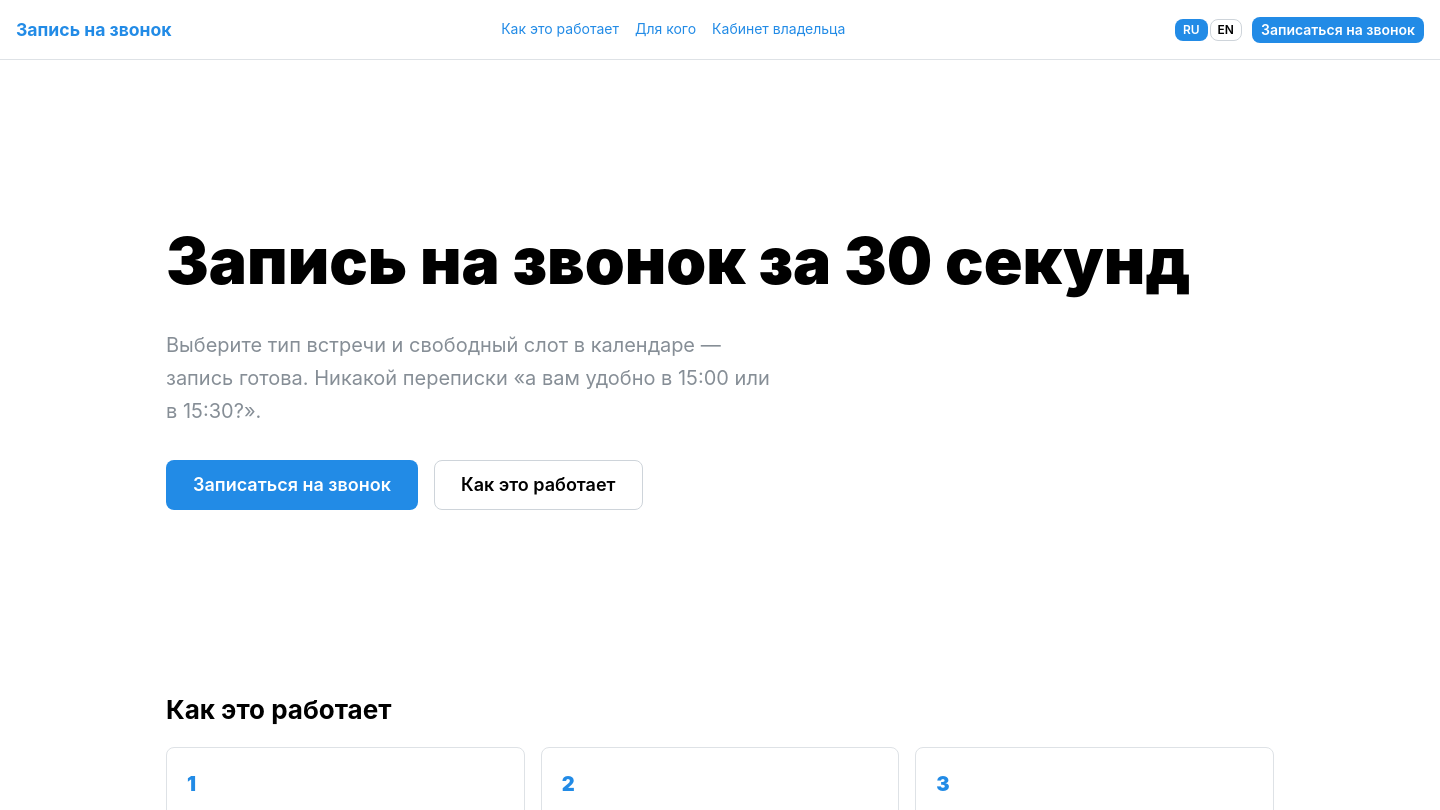
language switcher (spec § 6.1) › switches the whole page to English on click
Click the button "EN" at (1226,30), box [1210,18,1242,40]
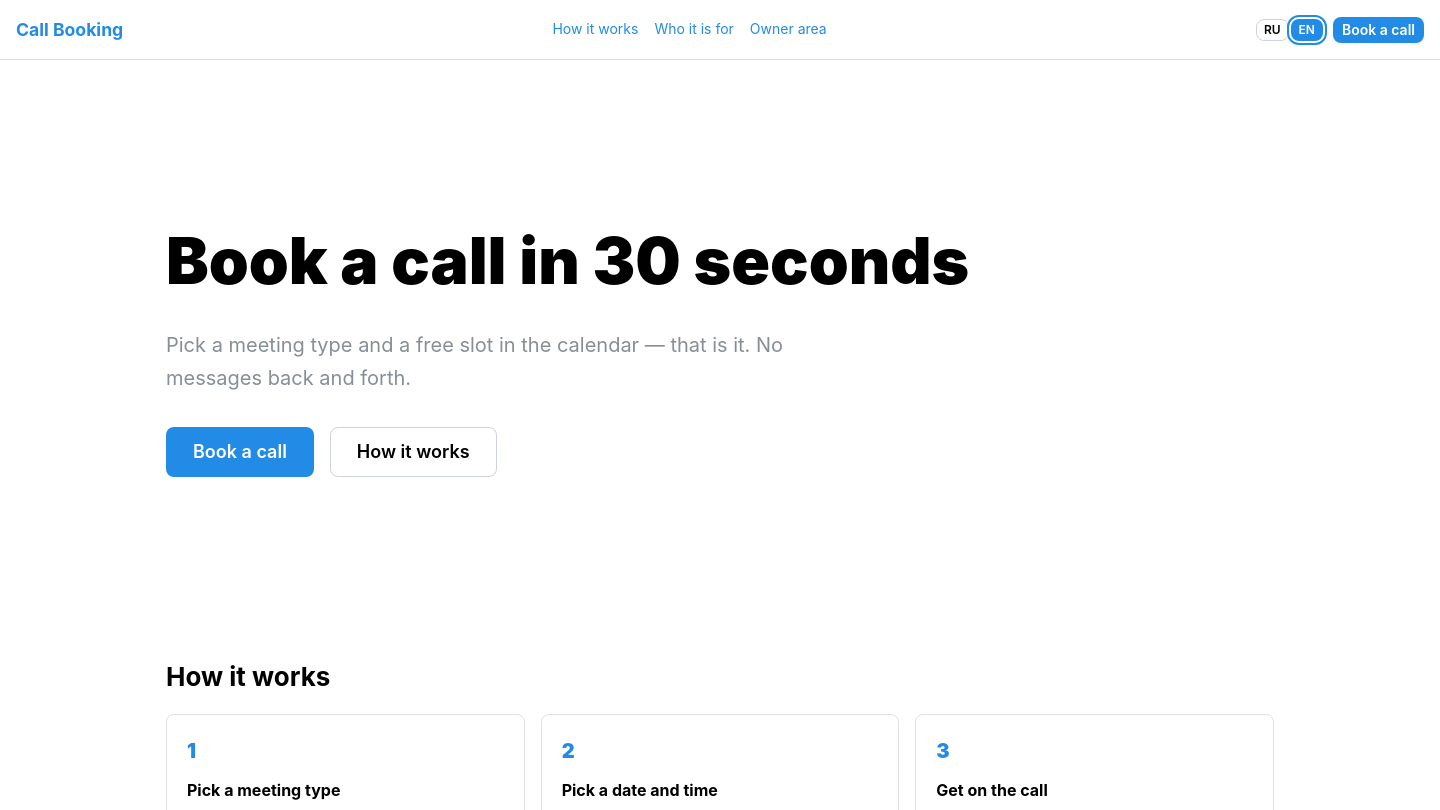
Expected: the heading "Book a call in 30 seconds" is shown, [166,222,969,299]
Expected: the heading "How it works" is shown, [166,661,330,692]
